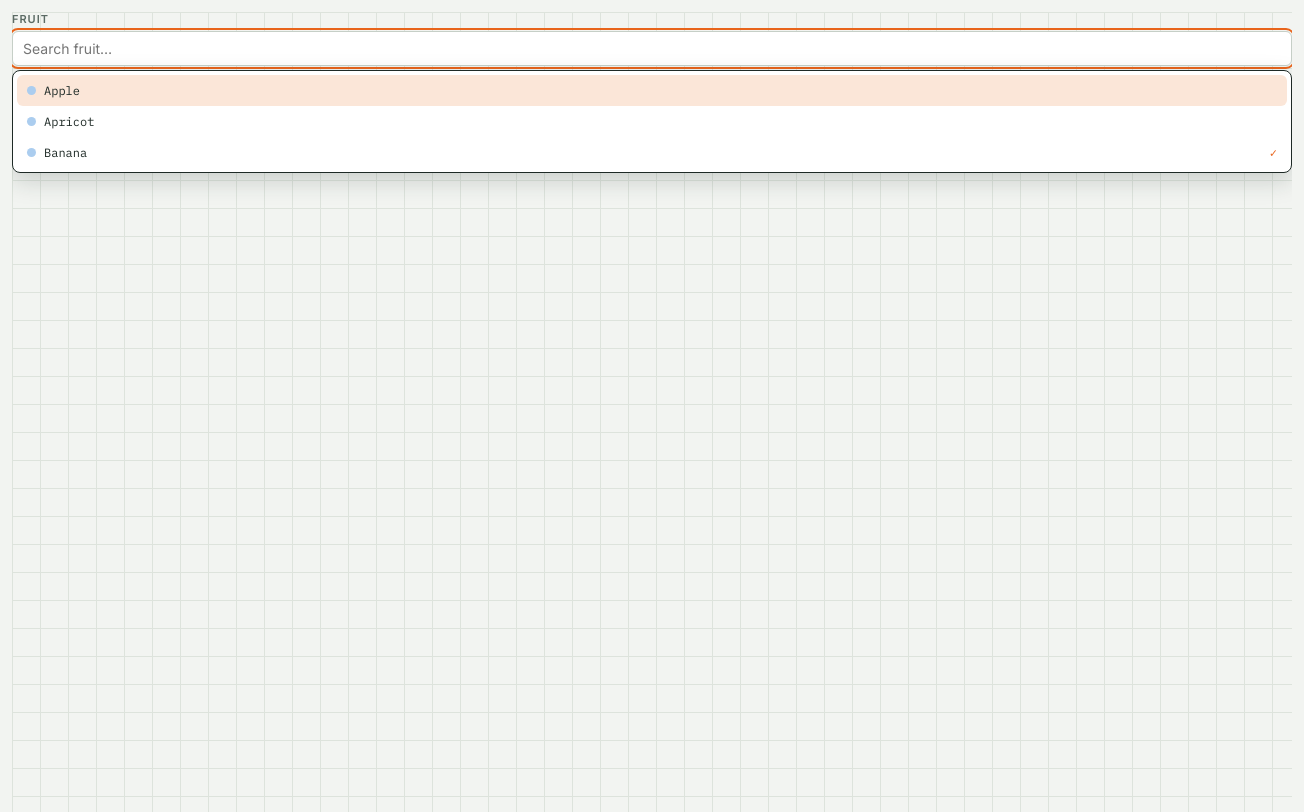
Scenario: SearchableListbox inline placement › closes itself on Escape and on blur, and reopens on typing
Press Escape
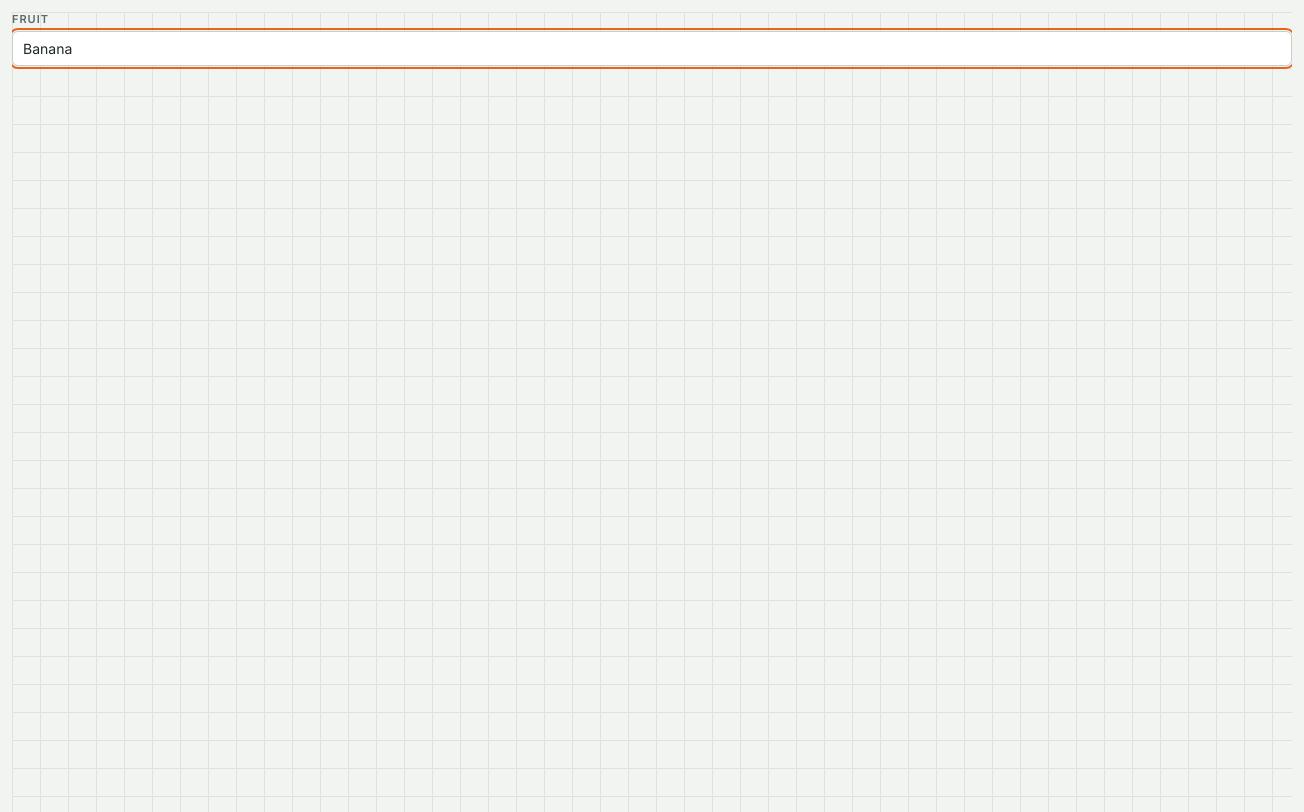
expect the list is gone: met
expect the dropdown labelled "Fruit" holds "Banana": met, box [12,31,1292,66]
expect the dropdown labelled "Fruit" is collapsed: met, box [12,31,1292,66]
Press Arrowdown
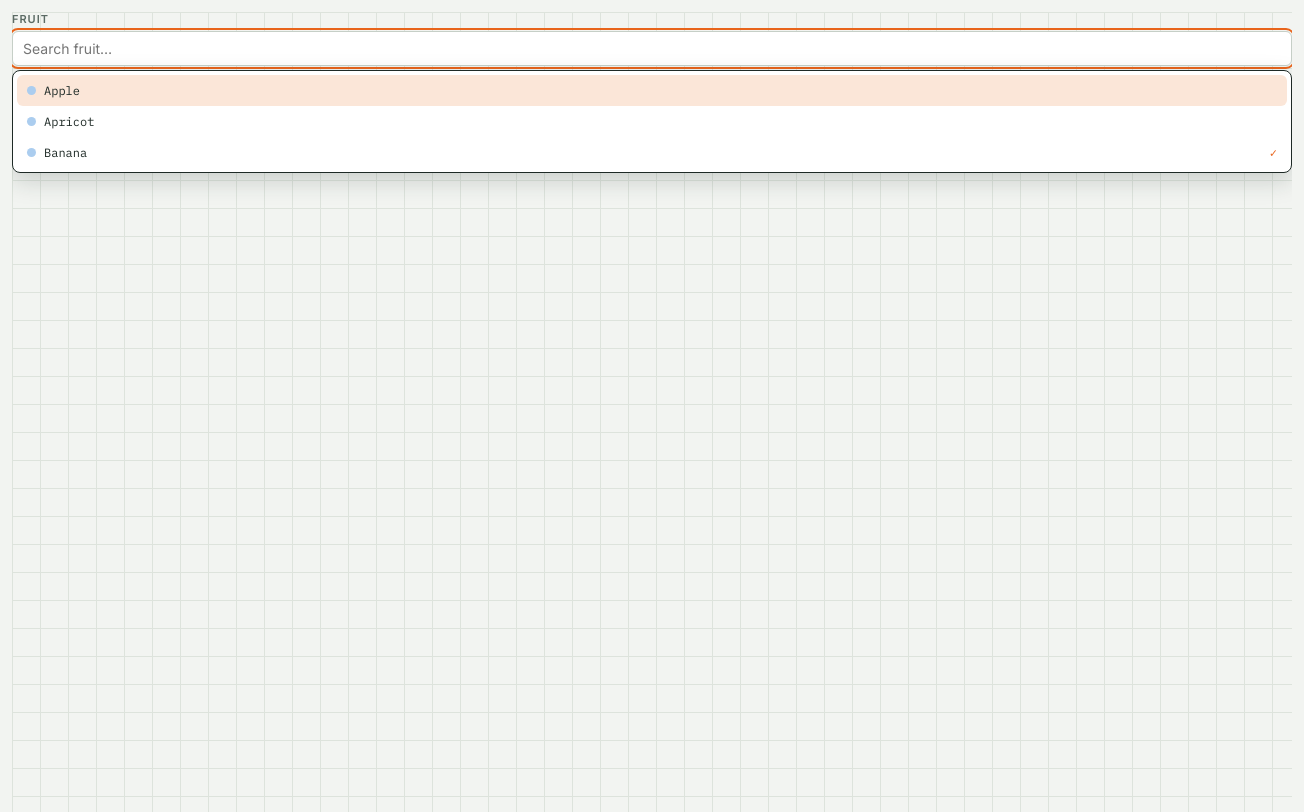
expect the list is shown: met, box [12,70,1292,173]
Click the element showing "Fruit Apple Apricot Banana ✓": x=652, y=412 [12,12,1292,811]
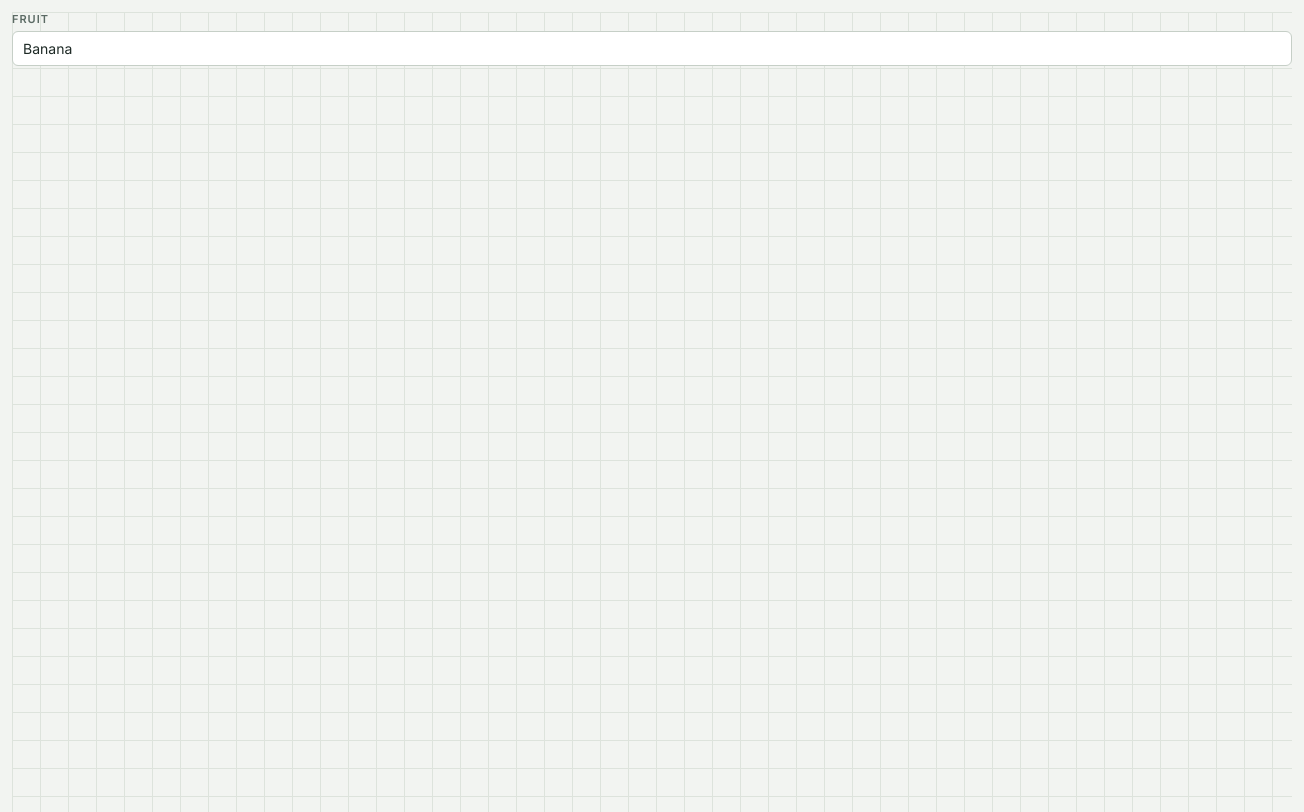
expect the list is gone: met
